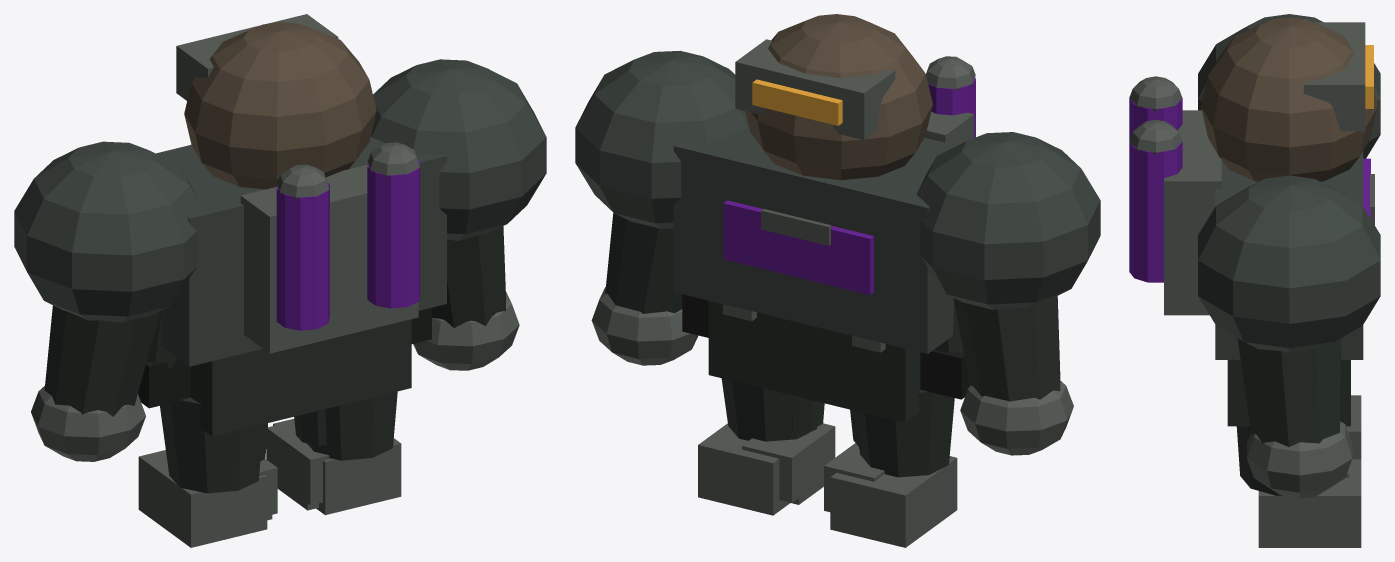
Rendered from enemies.obj.
3 renders of one model, left to right at view 1: azimuth 30°, elevation 25°; view 2: azimuth 150°, elevation 25°; view 3: azimuth 270°, elevation 25°, orthographic.
Parts seen in each view (by area): view 1: ENEMY_TANK, ENEMY_GRUNT; view 2: ENEMY_TANK, ENEMY_GRUNT; view 3: ENEMY_TANK.
Boxes of the visible parts, box(x1,y1,x2,y2) form: ENEMY_TANK: box(14, 14, 546, 547); ENEMY_GRUNT: box(138, 307, 431, 515); ENEMY_TANK: box(575, 14, 1100, 547); ENEMY_GRUNT: box(682, 294, 969, 511); ENEMY_TANK: box(1129, 14, 1380, 547).
Bounding box in the file's own units: 2.8 × 2.53 × 1.23.
